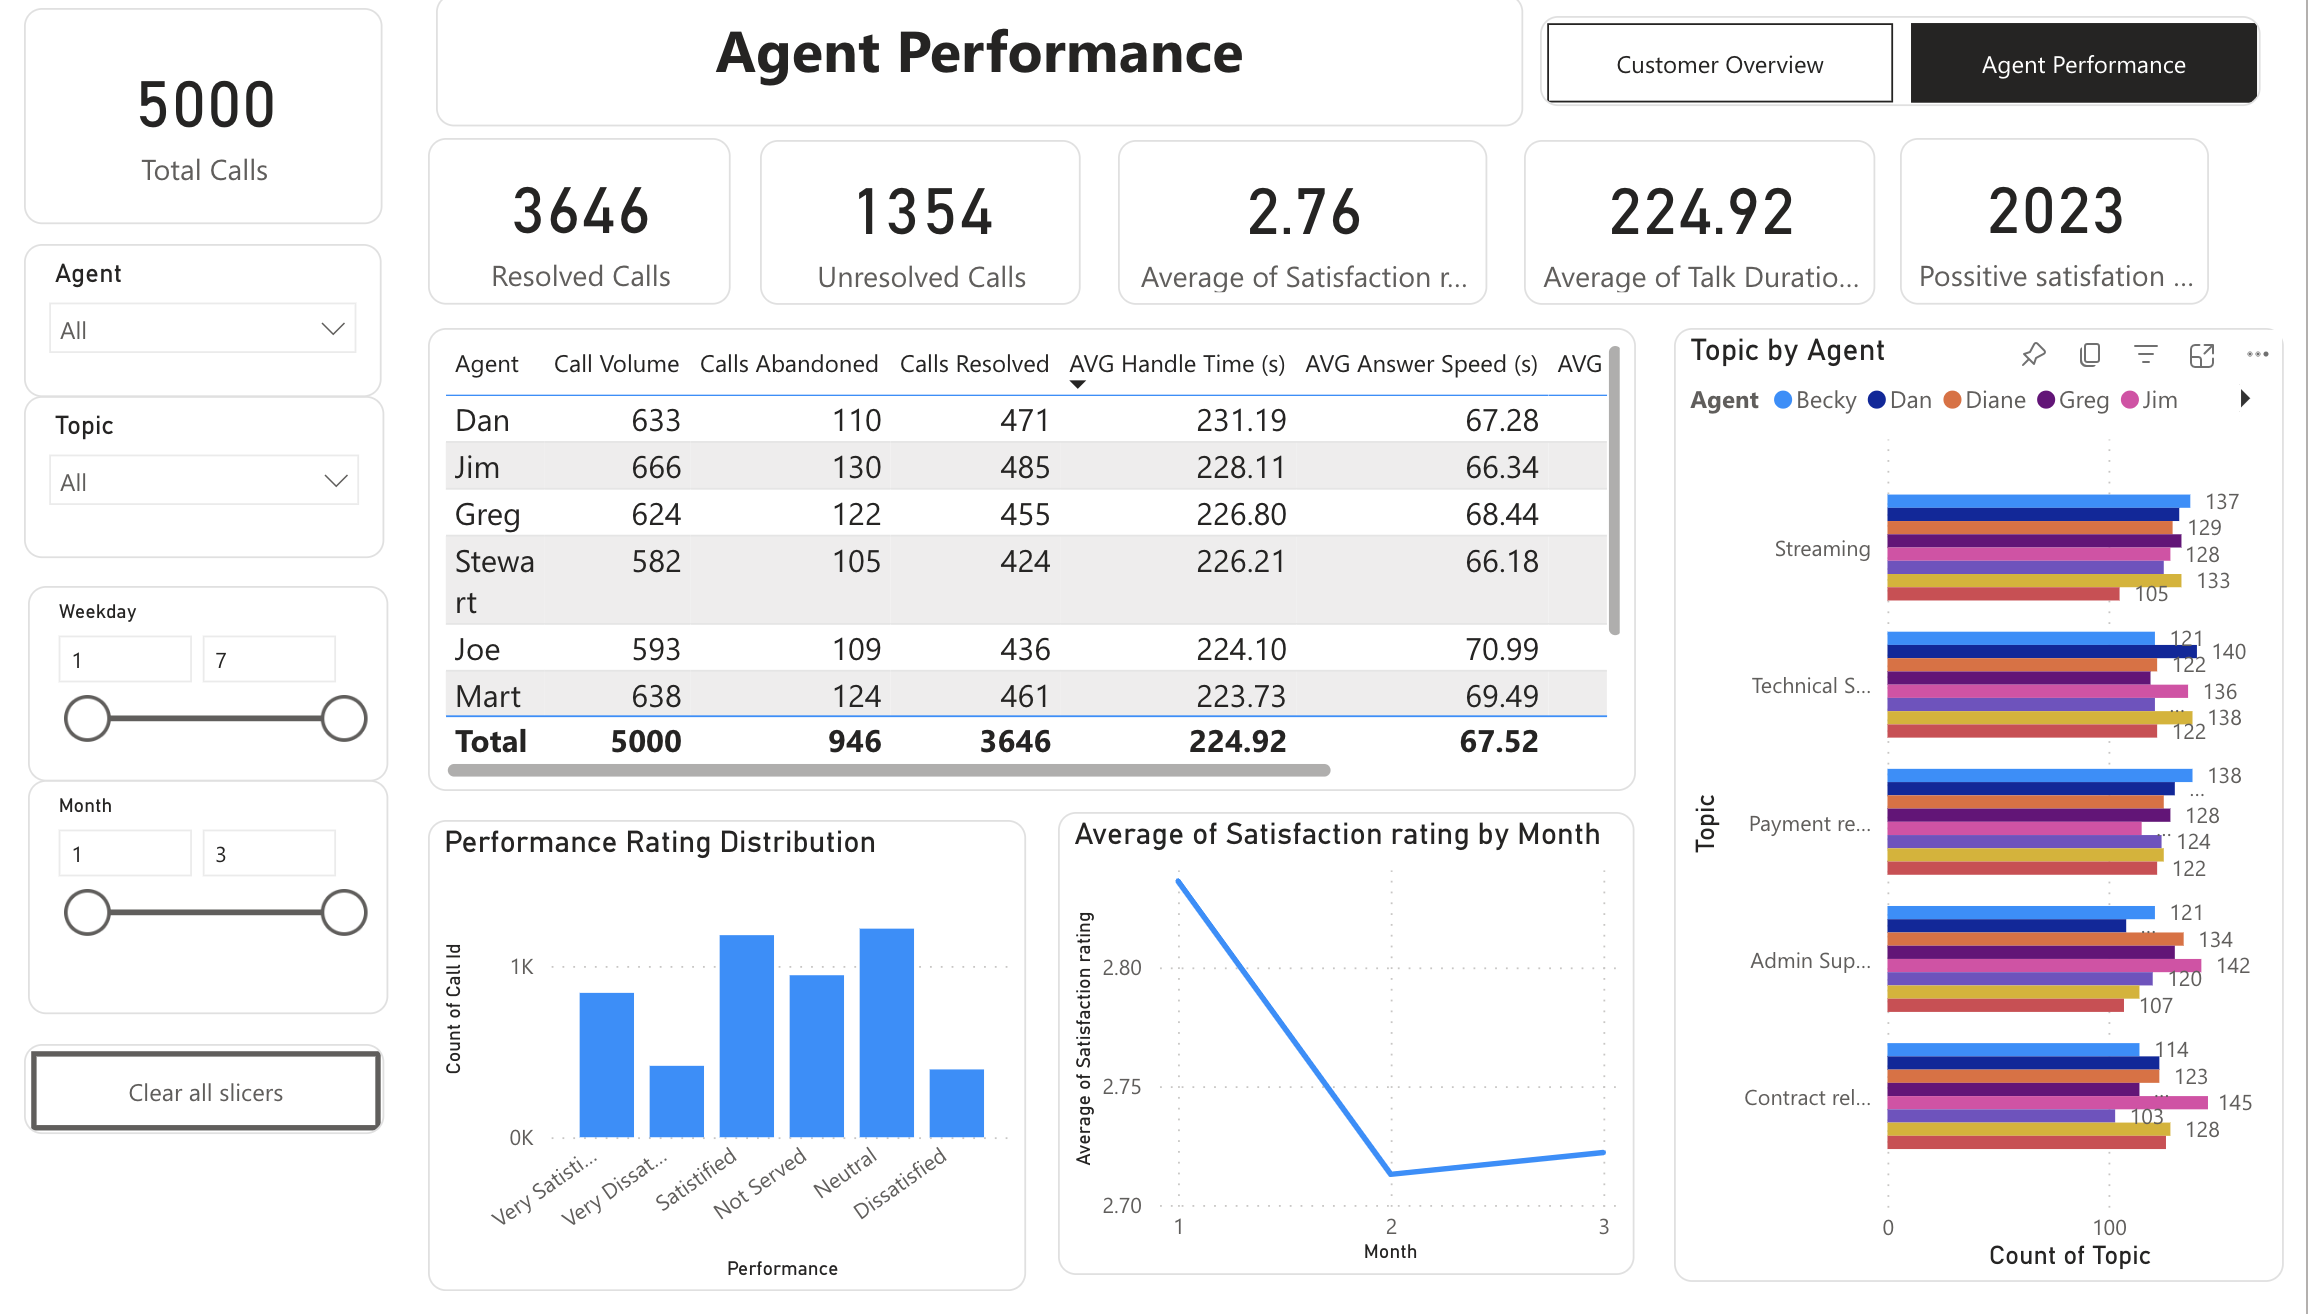

What the dashboard file says about the page in this screenshot:
{"tool":"powerbi","page":{"name":"Agent Performance","canvas":[1280,720],"ordinal":1},"visuals":[{"type":"card","fields":{"Values":["Call Center.Resolved Calls"]},"box":[237,80.2,167.9,92.6],"z":0},{"type":"card","fields":{"Values":["Call Center.Unresolved Calls"]},"box":[422.2,81.5,177.8,91.4],"z":1000},{"type":"card","fields":{"Values":["Call Center.Satisfaction rating"]},"box":[621,81.5,204.9,91.4],"z":2000},{"type":"card","fields":{"Values":["Call Center.Possitive satisfation rating"]},"box":[1054.3,80.2,171.6,92.6],"z":3000},{"type":"card","fields":{"Values":["Call Center.Talk Duration in sec"]},"box":[845.7,81.5,195.1,91.4],"z":4000},{"type":"tableEx","fields":{"Values":["Call Center.Agent","Call Center.Call Id","Call Center.Unanswered Call","Call Center.Resolved Calls","Call Center.Talk Duration in sec","Call Center.Speed of answer in seconds","Call Center.Satisfaction rating","Call Center.Overall Customer Satisfation"]},"box":[237,185.2,670.4,256.8],"z":5000},{"type":"clusteredColumnChart","title":"Performance Rating Distribution","fields":{"Category":["Call Center.Performance"],"Y":["Call Center.Call Id"]},"box":[237,458,332.1,261.7],"z":6000},{"type":"lineChart","fields":{"Category":["Call Center.Month"],"Y":["Call Center.Satisfaction rating"]},"box":[587.7,454.3,319.8,256.8],"z":7000},{"type":"card","fields":{"Values":["Call Center.Call Id"]},"box":[13.6,7.4,198.8,119.8],"z":8000},{"type":"slicer","fields":{"Values":["Call Center.Topic"]},"box":[13.3,223.3,200,90],"z":9000},{"type":"slicer","fields":{"Values":["Call Center.Agent"]},"box":[13.3,138.3,198.3,85],"z":10000},{"type":"clusteredBarChart","title":" Topic by Agent","fields":{"Category":["Call Center.Topic"],"Y":["Call Center.Topic"],"Series":["Call Center.Agent"]},"box":[929.6,185.2,338.3,529.6],"z":11000},{"type":"slicer","fields":{"Values":["Call Center.Weekday"]},"box":[15,328.3,200,108.3],"z":12000},{"type":"slicer","fields":{"Values":["Call Center.Month"]},"box":[15,436.7,200,130],"z":13000},{"type":"textbox","box":[241.7,0,603.3,73.3],"z":14000},{"type":"actionButton","box":[13.3,583.3,200,50],"z":15000},{"type":"pageNavigator","box":[855,11.7,400,50],"z":16000}]}

Visuals, with their boxes in screenshot pixels (x1, y1, x2, y2), scaled from the page's 1280x720 canvas onto the 2312x1314 screenshot:
card - Call Center.Resolved Calls: left=428, top=146, right=731, bottom=315
card - Call Center.Unresolved Calls: left=763, top=149, right=1084, bottom=316
card - Call Center.Satisfaction rating: left=1122, top=149, right=1492, bottom=316
card - Call Center.Possitive satisfation rating: left=1904, top=146, right=2214, bottom=315
card - Call Center.Talk Duration in sec: left=1528, top=149, right=1880, bottom=316
tableEx - Call Center.Agent x Call Center.Call Id: left=428, top=338, right=1639, bottom=807
"Performance Rating Distribution" clusteredColumnChart: left=428, top=836, right=1028, bottom=1313
lineChart - Call Center.Month x Call Center.Satisfaction rating: left=1062, top=829, right=1639, bottom=1298
card - Call Center.Call Id: left=25, top=14, right=384, bottom=232
slicer - Call Center.Topic: left=24, top=408, right=385, bottom=572
slicer - Call Center.Agent: left=24, top=252, right=382, bottom=408
" Topic by Agent" clusteredBarChart: left=1679, top=338, right=2290, bottom=1305
slicer - Call Center.Weekday: left=27, top=599, right=388, bottom=797
slicer - Call Center.Month: left=27, top=797, right=388, bottom=1034
textbox: left=437, top=0, right=1526, bottom=134
actionButton: left=24, top=1065, right=385, bottom=1156
pageNavigator: left=1544, top=21, right=2267, bottom=113
